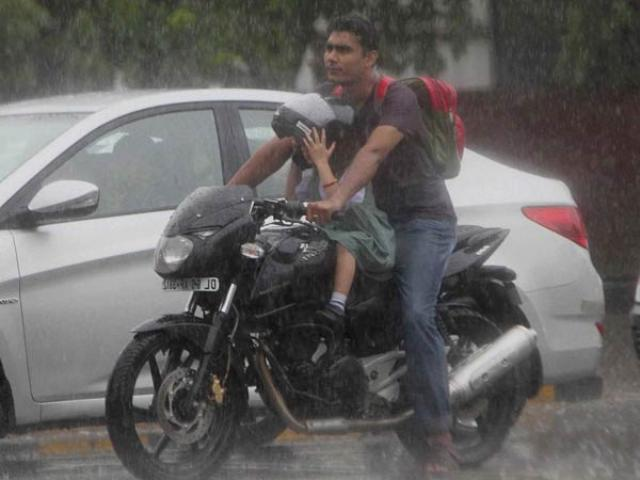licensePlate: (158, 273, 219, 296)
motorcycle: (103, 9, 534, 480)
withHelmet: (270, 87, 344, 172)
withoutHelmet: (320, 13, 382, 95)
